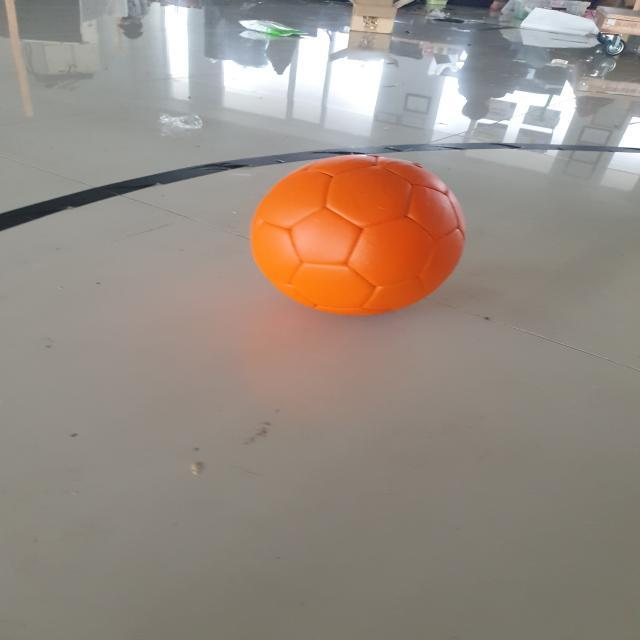bola: (244, 150, 476, 320)
